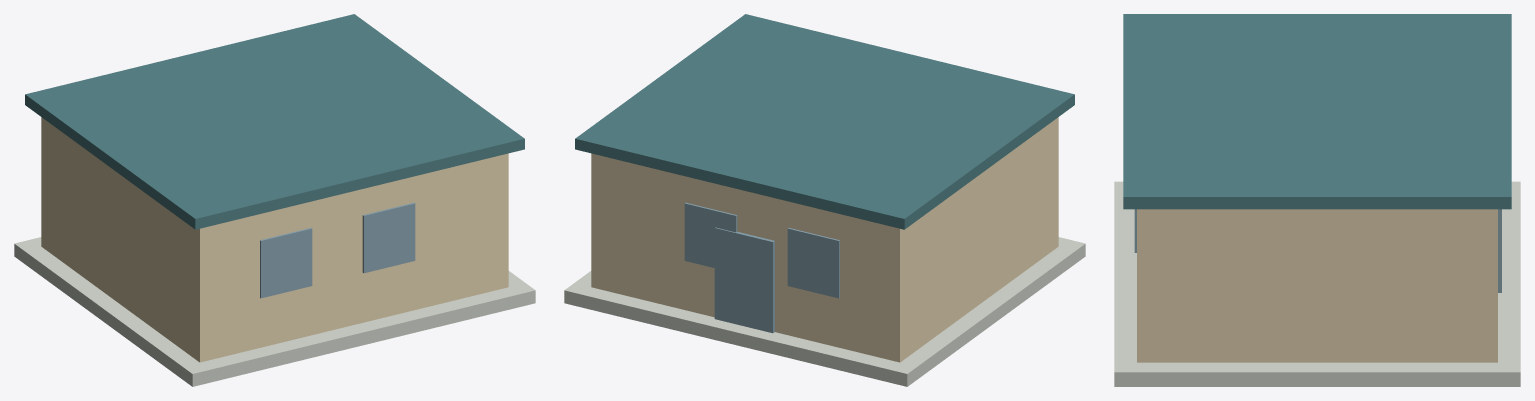
The model's file is desert_adobe.glb.
The picture shows the model from 3 angles, left to right: view 1: azimuth 30°, elevation 25°; view 2: azimuth 150°, elevation 25°; view 3: azimuth 270°, elevation 25°; orthographic projection. The views are drawn at different scales.
Visible parts, largest first — view 1: desert_adobe__roof, desert_adobe__walls, desert_adobe__plinth, desert_adobe__window.002, desert_adobe__window; view 2: desert_adobe__roof, desert_adobe__walls, desert_adobe__plinth, desert_adobe__front_door, desert_adobe__window.001, desert_adobe__window.003; view 3: desert_adobe__roof, desert_adobe__walls, desert_adobe__plinth.
Part boxes in pixels (x1=…): desert_adobe__roof: x1=25, y1=14, x2=524, y2=229; desert_adobe__walls: x1=41, y1=117, x2=508, y2=362; desert_adobe__plinth: x1=14, y1=237, x2=535, y2=386; desert_adobe__window.002: x1=362, y1=202, x2=415, y2=273; desert_adobe__window: x1=260, y1=227, x2=312, y2=298; desert_adobe__roof: x1=575, y1=14, x2=1074, y2=229; desert_adobe__walls: x1=591, y1=117, x2=1058, y2=362; desert_adobe__plinth: x1=564, y1=237, x2=1085, y2=386; desert_adobe__front_door: x1=714, y1=227, x2=774, y2=333; desert_adobe__window.001: x1=787, y1=227, x2=839, y2=298; desert_adobe__window.003: x1=684, y1=202, x2=737, y2=267; desert_adobe__roof: x1=1123, y1=14, x2=1511, y2=209; desert_adobe__walls: x1=1137, y1=209, x2=1497, y2=362; desert_adobe__plinth: x1=1114, y1=181, x2=1520, y2=386.
Bounding box in the file's own units: 10 × 4.55 × 9.
